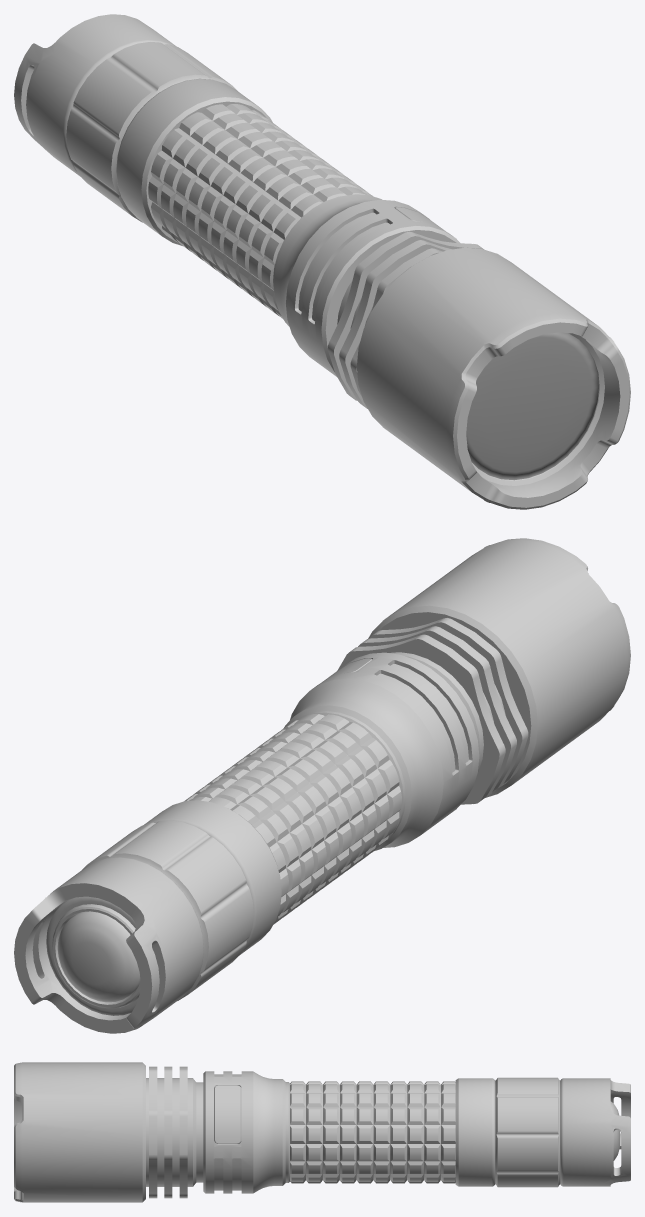
The model's file is Tactical_flashlight.obj.
3 renders of one model, top to bottom at view 1: azimuth 30°, elevation 25°; view 2: azimuth 150°, elevation 25°; view 3: azimuth 270°, elevation 25°, orthographic. The views are drawn at different scales.
Visible parts, largest first — view 1: Tactical:flashlight, Tactical:Lens; view 2: Tactical:flashlight; view 3: Tactical:flashlight.
Part boxes in pixels (x1,y1,x2,y2): Tactical:flashlight: [14, 14, 630, 509]; Tactical:Lens: [466, 332, 598, 480]; Tactical:flashlight: [14, 538, 630, 1033]; Tactical:flashlight: [14, 1062, 630, 1202].
Bounding box in the file's own units: 2.58 × 2.58 × 11.36.
